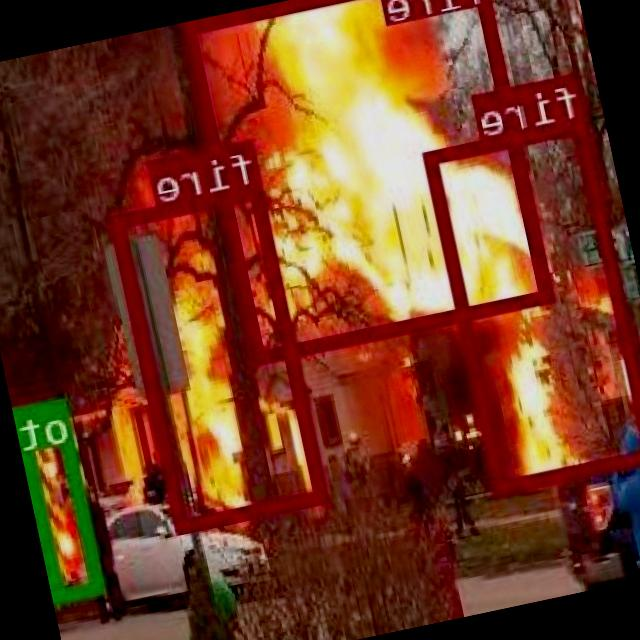fire: (186, 0, 557, 359), (425, 116, 640, 492), (112, 182, 330, 530)
